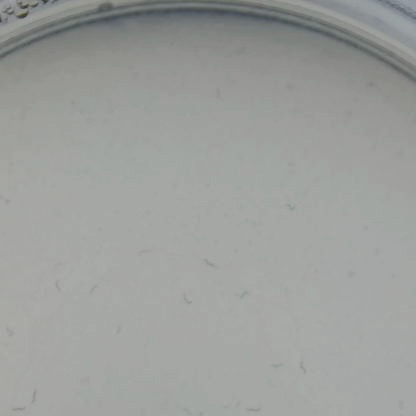worm: (280, 194, 310, 214), (175, 289, 199, 313), (294, 355, 317, 378), (229, 286, 259, 303), (50, 272, 67, 301), (81, 279, 101, 303), (199, 253, 221, 274), (30, 383, 47, 404), (180, 401, 201, 416), (241, 400, 260, 416), (266, 359, 285, 375), (8, 403, 30, 416), (0, 191, 16, 207), (133, 248, 155, 259), (0, 325, 15, 341), (213, 87, 226, 105)
